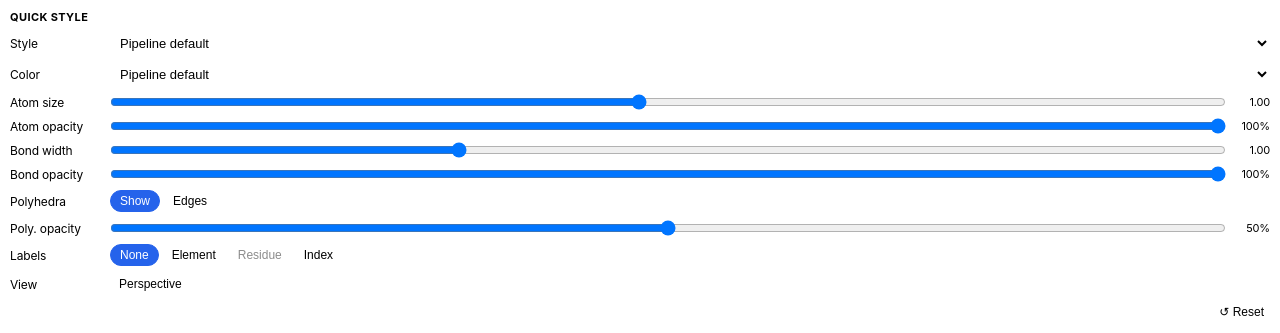
Test: QuickStylePanel › switches the pipeline's own polyhedra
Set the slider with test id "quick-style-polyhedra-opacity" to "0.8": (998, 228) [110,220,1226,236]
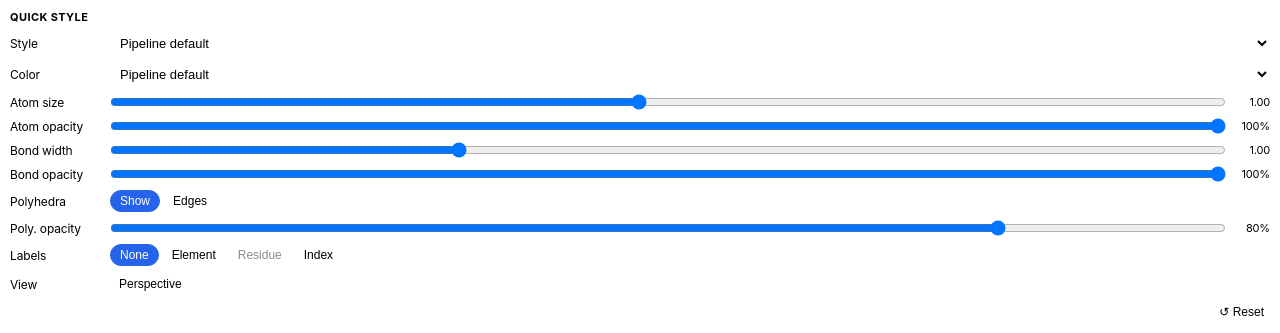
Click the button with test id "quick-style-polyhedra": (135, 201) [110,190,160,212]
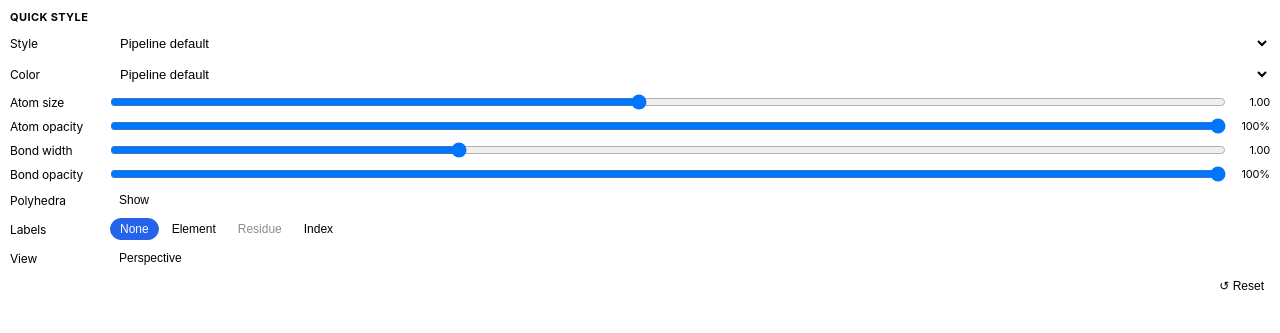
Check: the slider with test id "quick-style-polyhedra-opacity" is gone
